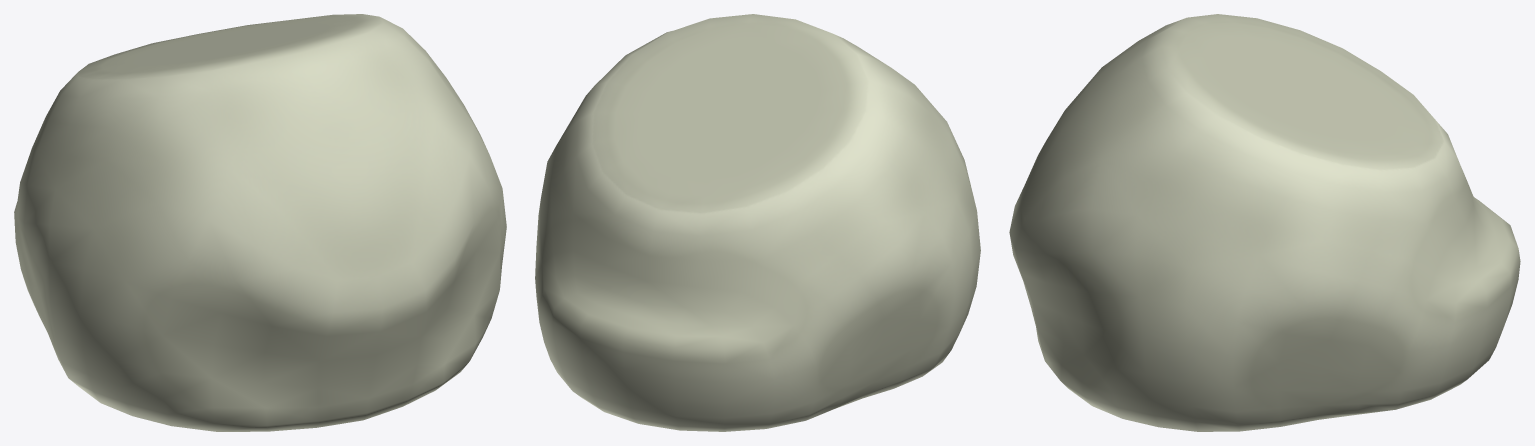
Rendered from rock2 low.fbx.
3 renders of one model, left to right at view 1: azimuth 30°, elevation 25°; view 2: azimuth 150°, elevation 25°; view 3: azimuth 270°, elevation 25°, orthographic. The views are drawn at different scales.
Parts seen in each view (by area): view 1: rock2_low; view 2: rock2_low; view 3: rock2_low.
Part boxes in pixels (<box>): rock2_low: <box>14,14,506,431</box>; rock2_low: <box>535,14,980,431</box>; rock2_low: <box>1009,14,1520,431</box>.
Size of the model in its own units: 1.19 by 0.8556 by 1.3.
Materials: 1 (1 with a texture image).
